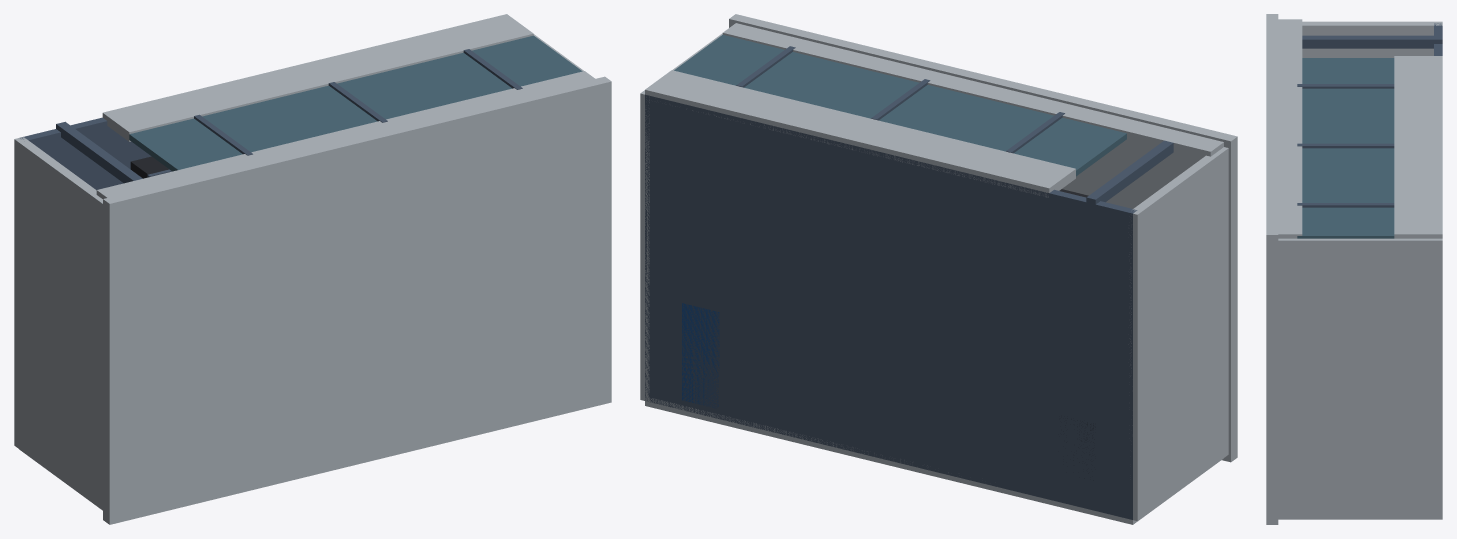
Rendered from control_room.obj.
3 views of the same model, side by side, from view 1: azimuth 30°, elevation 25°; view 2: azimuth 150°, elevation 25°; view 3: azimuth 270°, elevation 25° (orthographic). The views are drawn at different scales.
Parts seen in each view (by area): view 1: cr_roof.006, cr_wall_west.006, cr_window.006, cr_sill.006, cr_header.006, cr_floor.006, cr_door_jamb.006; view 2: cr_floor.006, cr_wall_west.006, cr_window.006, cr_sill.006, cr_roof.006, cr_header.006, cr_wall_south.006, cr_cabinet.006, cr_wall_east.006, cr_door_jamb.006; view 3: cr_wall_east.006, cr_window.006, cr_sill.006, cr_roof.006, cr_header.006, cr_wall_west.006, cr_door_jamb.006, cr_mullion.019, cr_wall_south.006, cr_mullion.018, cr_mullion.020, cr_floor.006.
Boxes of the visible parts, bbox=[...] form: cr_roof.006: bbox=[103, 76, 611, 524]; cr_wall_west.006: bbox=[14, 137, 102, 509]; cr_window.006: bbox=[129, 35, 582, 171]; cr_sill.006: bbox=[102, 14, 533, 141]; cr_header.006: bbox=[96, 71, 595, 198]; cr_floor.006: bbox=[20, 117, 151, 189]; cr_door_jamb.006: bbox=[56, 121, 142, 183]; cr_floor.006: bbox=[645, 94, 1137, 519]; cr_wall_west.006: bbox=[1128, 147, 1228, 520]; cr_window.006: bbox=[674, 35, 1126, 176]; cr_sill.006: bbox=[645, 70, 1075, 197]; cr_roof.006: bbox=[729, 14, 1237, 462]; cr_header.006: bbox=[722, 23, 1223, 158]; cr_wall_south.006: bbox=[645, 396, 1223, 524]; cr_cabinet.006: bbox=[682, 303, 719, 407]; cr_wall_east.006: bbox=[640, 33, 722, 401]; cr_door_jamb.006: bbox=[1086, 140, 1173, 204]; cr_wall_east.006: bbox=[1278, 238, 1442, 517]; cr_window.006: bbox=[1297, 58, 1394, 238]; cr_sill.006: bbox=[1394, 56, 1442, 238]; cr_roof.006: bbox=[1266, 14, 1278, 524]; cr_header.006: bbox=[1278, 19, 1302, 238]; cr_wall_west.006: bbox=[1302, 21, 1442, 57]; cr_door_jamb.006: bbox=[1302, 35, 1442, 48]; cr_mullion.019: bbox=[1297, 143, 1394, 148]; cr_wall_south.006: bbox=[1278, 517, 1442, 519]; cr_mullion.018: bbox=[1297, 84, 1394, 88]; cr_mullion.020: bbox=[1297, 203, 1394, 207]; cr_floor.006: bbox=[1434, 23, 1442, 55].
Bounding box in the file's own units: 10.8 × 6.6 × 3.64.
